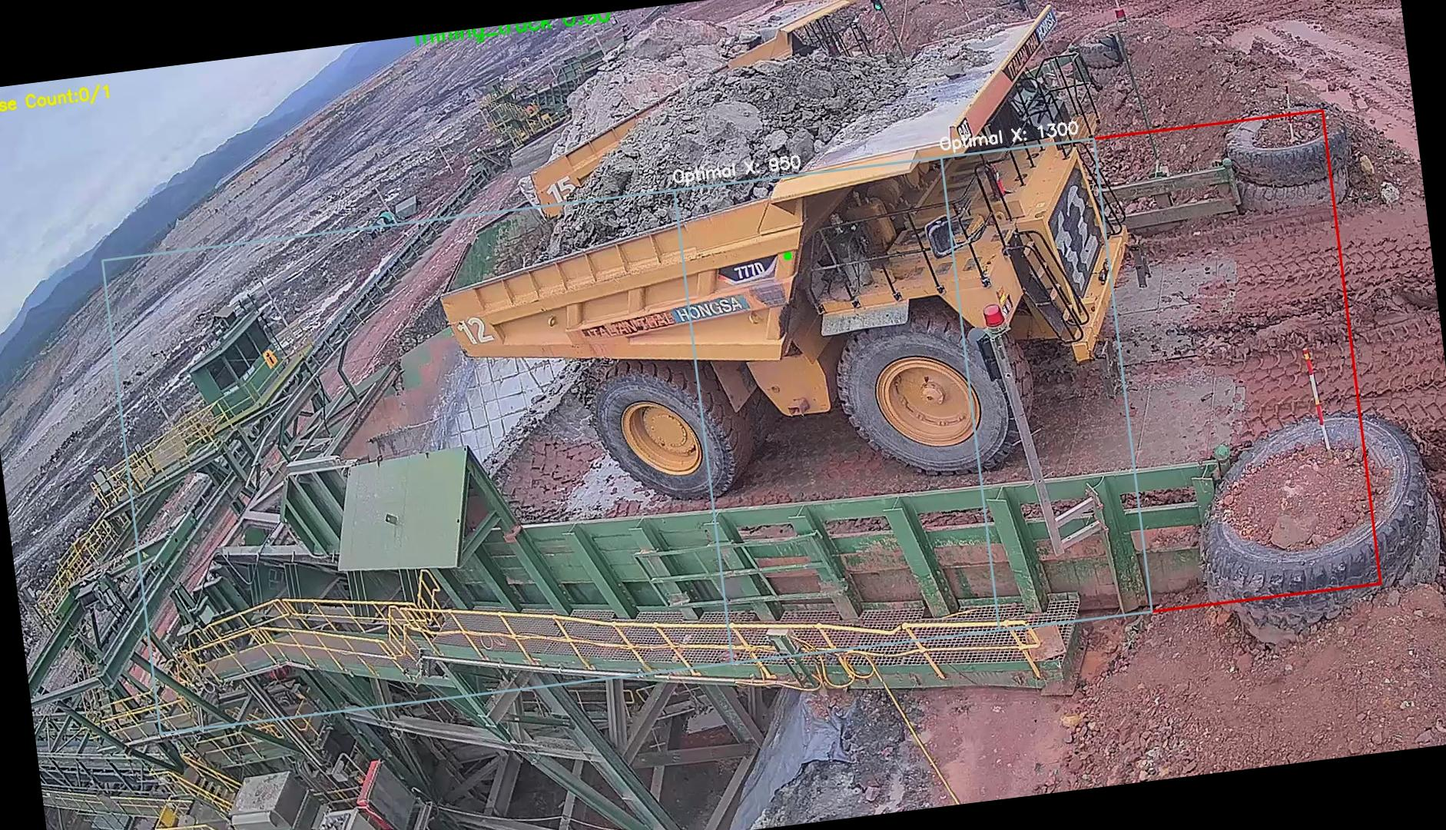company: (569, 285, 773, 352)
full_load: (548, 60, 884, 249)
mining_truck: (402, 1, 1182, 535)
tail_number: (451, 309, 496, 353)
truck_size: (717, 251, 782, 289)
